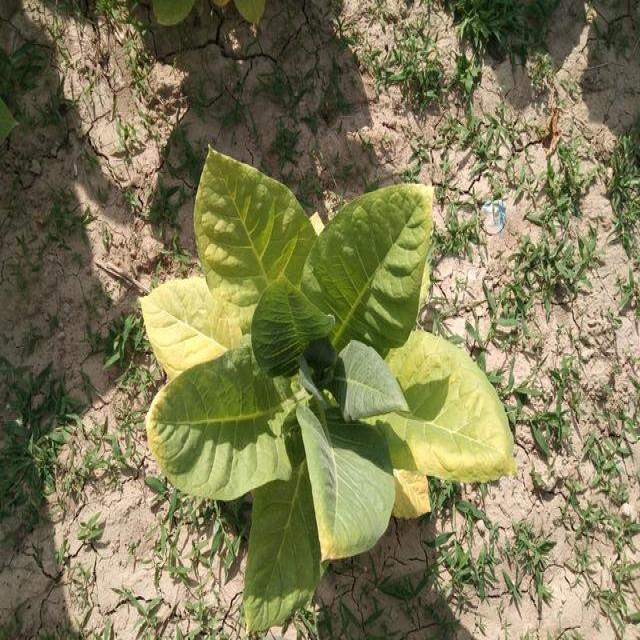crop: (129, 127, 523, 640)
